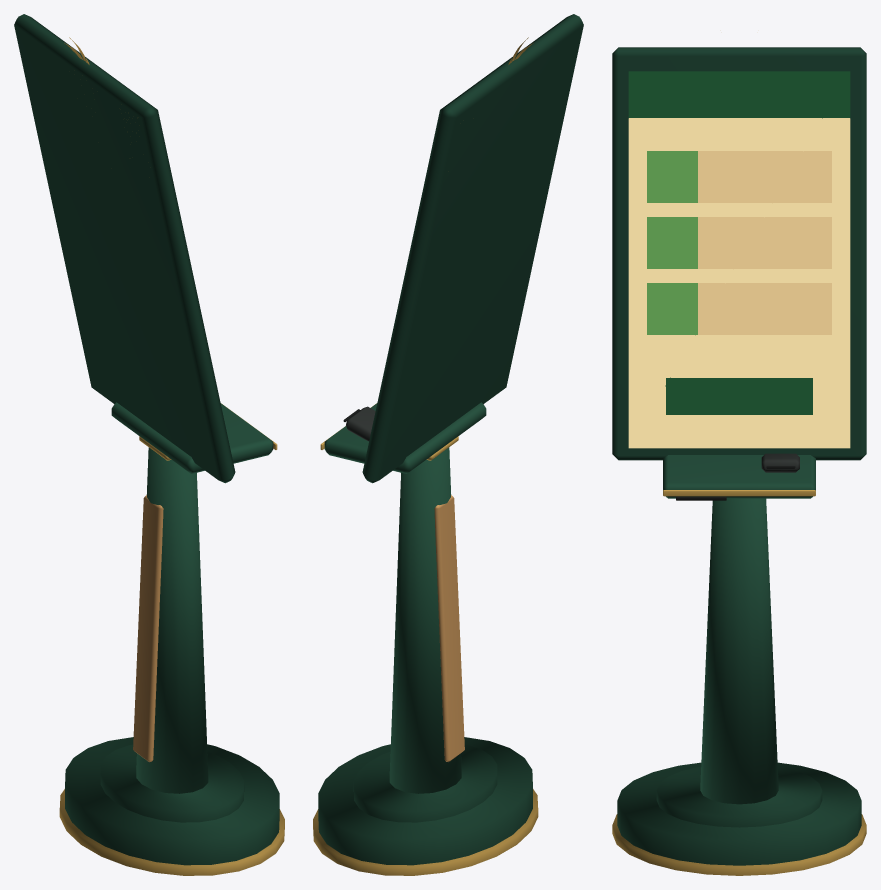
The model's file is kiosk.glb.
The picture shows the model from 3 angles, left to right: view 1: azimuth 30°, elevation 25°; view 2: azimuth 150°, elevation 25°; view 3: azimuth 270°, elevation 25°; orthographic projection. The views are drawn at different scales.
Parts seen in each view (by area): view 1: Bezel, Pedestal, Base, BaseTop, OakPanel, Ledge, FootRing; view 2: Bezel, Pedestal, Base, BaseTop, OakPanel, FootRing, Ledge, CardReader; view 3: Screen, Bezel, Pedestal, Base, BaseTop, Ledge, FootRing, LedgeEdge, CardReader.
Boxes of the visible parts, x1,y1,x2,y2 form: Bezel: [14, 14, 235, 483]; Pedestal: [136, 447, 208, 793]; Base: [65, 737, 279, 865]; BaseTop: [100, 744, 244, 822]; OakPanel: [133, 495, 163, 761]; Ledge: [111, 402, 273, 473]; FootRing: [59, 789, 284, 875]; Bezel: [362, 14, 583, 483]; Pedestal: [389, 447, 461, 793]; Base: [318, 737, 532, 865]; BaseTop: [353, 744, 497, 822]; OakPanel: [434, 495, 464, 761]; FootRing: [313, 789, 538, 875]; Ledge: [324, 402, 486, 473]; CardReader: [346, 406, 375, 441]; Screen: [628, 71, 850, 448]; Bezel: [612, 47, 866, 460]; Pedestal: [700, 498, 778, 804]; Base: [617, 762, 861, 865]; BaseTop: [656, 766, 822, 827]; Ledge: [663, 455, 815, 498]; FootRing: [612, 814, 866, 875]; LedgeEdge: [663, 490, 815, 496]; CardReader: [761, 453, 799, 472].
Bounding box in the file's own units: 0.3365 × 1.34 × 0.4.
8 materials, 1 textured.
